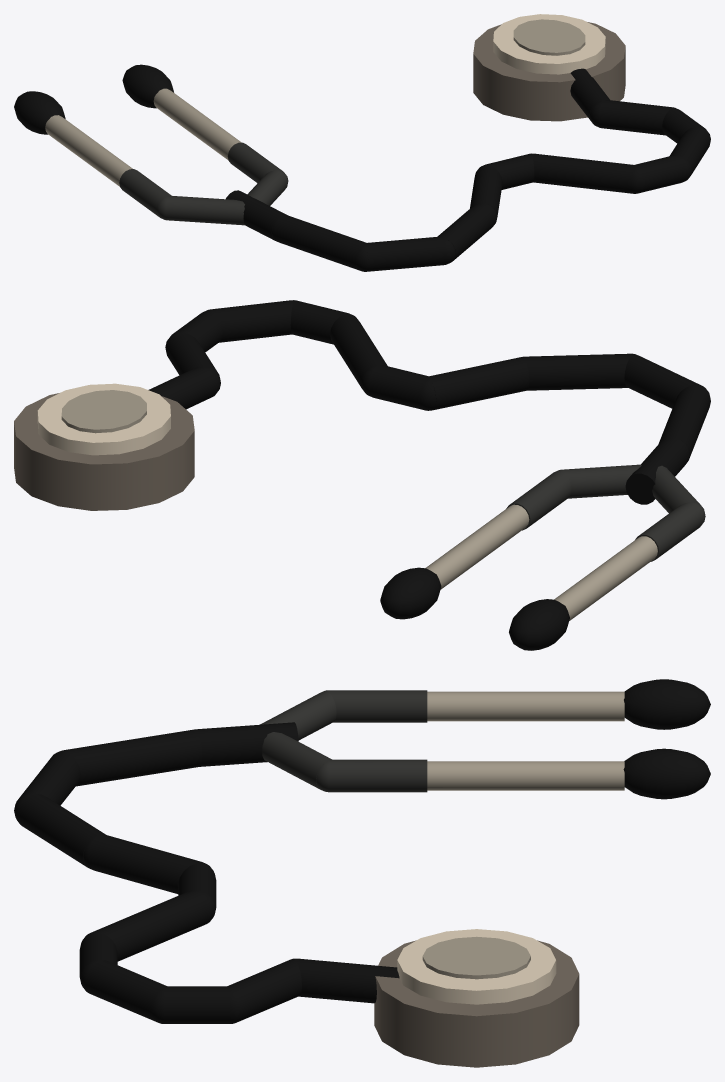
File: CMU3DRMCStethoscopeMedicalSmallCloud.glb
3 renders of one model, top to bottom at view 1: azimuth 30°, elevation 25°; view 2: azimuth 150°, elevation 25°; view 3: azimuth 270°, elevation 25°, orthographic. The views are drawn at different scales.
Visible parts, largest first — view 1: separate chestpiece diaphragm, metal diaphragm face, continuous black acoustic tube 6, continuous black acoustic tube 1, continuous black acoustic tube 2, recessed central diaphragm, exposed metal ear stem 9.5 0, exposed metal ear stem 4.5 0, left ear fork 0, continuous black acoustic tube 10, continuous black acoustic tube 3, rubber ear tip 4.5 (+11 smaller); view 2: separate chestpiece diaphragm, metal diaphragm face, continuous black acoustic tube 3, continuous black acoustic tube 4, exposed metal ear stem 4.5 0, exposed metal ear stem 9.5 0, recessed central diaphragm, continuous black acoustic tube 8, rubber ear tip 9.5, rubber ear tip 4.5, continuous black acoustic tube 2, continuous black acoustic tube 6 (+11 smaller); view 3: separate chestpiece diaphragm, metal diaphragm face, exposed metal ear stem 4.5 0, exposed metal ear stem 9.5 0, continuous black acoustic tube 1, continuous black acoustic tube 6, continuous black acoustic tube 4, recessed central diaphragm, rubber ear tip 4.5, rubber ear tip 9.5, right ear fork 1, continuous black acoustic tube 11 (+11 smaller).
Part boxes in pixels (bbox=[...]): separate chestpiece diaphragm: bbox=[473, 22, 625, 121]; metal diaphragm face: bbox=[493, 14, 605, 74]; continuous black acoustic tube 6: bbox=[532, 153, 634, 193]; continuous black acoustic tube 1: bbox=[273, 215, 366, 270]; continuous black acoustic tube 2: bbox=[365, 236, 445, 271]; recessed central diaphragm: bbox=[513, 19, 585, 55]; exposed metal ear stem 9.5 0: bbox=[153, 88, 241, 160]; exposed metal ear stem 4.5 0: bbox=[45, 115, 132, 186]; left ear fork 0: bbox=[165, 195, 244, 225]; continuous black acoustic tube 10: bbox=[599, 100, 672, 135]; continuous black acoustic tube 3: bbox=[438, 203, 495, 261]; rubber ear tip 4.5: bbox=[14, 91, 65, 134]; separate chestpiece diaphragm: bbox=[14, 393, 194, 510]; metal diaphragm face: bbox=[37, 383, 170, 455]; continuous black acoustic tube 3: bbox=[524, 353, 631, 390]; continuous black acoustic tube 4: bbox=[429, 357, 529, 410]; exposed metal ear stem 4.5 0: bbox=[554, 536, 657, 620]; exposed metal ear stem 9.5 0: bbox=[425, 504, 529, 589]; recessed central diaphragm: bbox=[61, 390, 146, 433]; continuous black acoustic tube 8: bbox=[210, 300, 292, 342]; rubber ear tip 9.5: bbox=[380, 567, 441, 619]; rubber ear tip 4.5: bbox=[509, 599, 569, 650]; continuous black acoustic tube 2: bbox=[624, 354, 698, 408]; continuous black acoustic tube 6: bbox=[330, 314, 387, 388]; separate chestpiece diaphragm: bbox=[374, 940, 579, 1067]; metal diaphragm face: bbox=[397, 929, 556, 1004]; exposed metal ear stem 4.5 0: bbox=[427, 691, 624, 721]; exposed metal ear stem 9.5 0: bbox=[427, 761, 624, 790]; continuous black acoustic tube 1: bbox=[64, 729, 202, 786]; continuous black acoustic tube 6: bbox=[94, 890, 210, 961]; continuous black acoustic tube 4: bbox=[88, 834, 200, 893]; recessed central diaphragm: bbox=[422, 936, 530, 979]; rubber ear tip 4.5: bbox=[624, 679, 710, 729]; rubber ear tip 9.5: bbox=[623, 748, 710, 799]; right ear fork 1: bbox=[329, 759, 427, 792]; continuous black acoustic tube 11: bbox=[296, 958, 399, 1003].
Size of the model in its own units: 0.7538 by 0.0725 by 0.6625.
